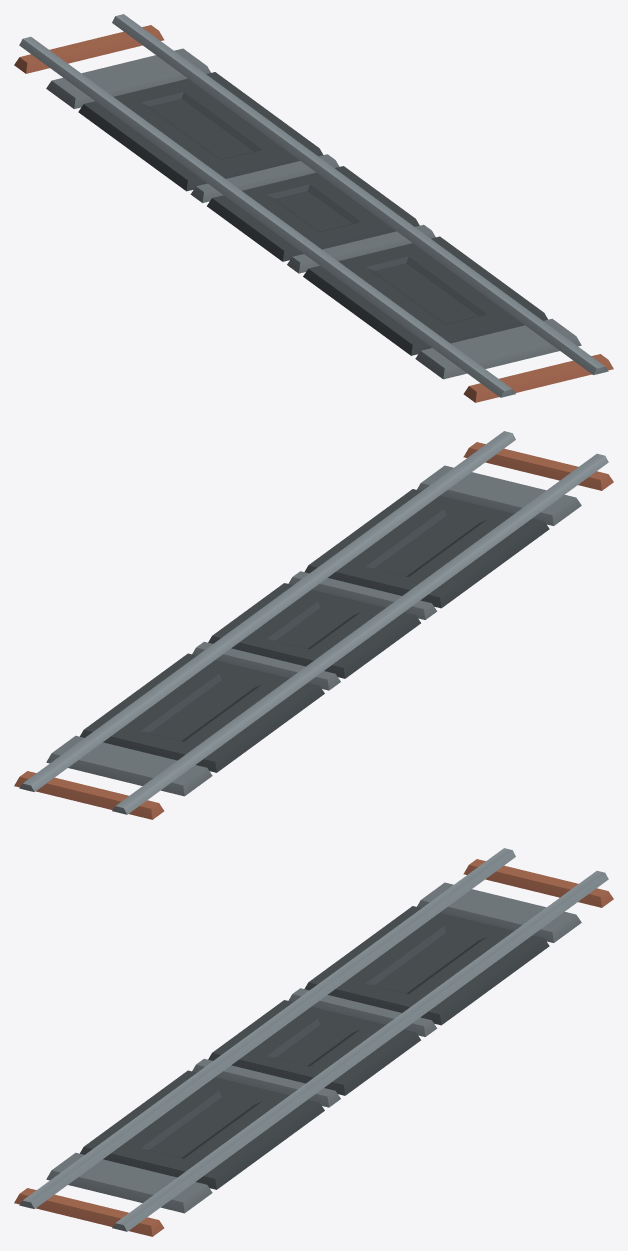
Rendered from tracks_straight_station.glb.
3 renders of one model, top to bottom at view 1: azimuth 30°, elevation 25°; view 2: azimuth 150°, elevation 25°; view 3: azimuth 330°, elevation 25°, orthographic.
Parts seen in each view (by area): view 1: tracks_straight_station; view 2: tracks_straight_station; view 3: tracks_straight_station.
Boxes of the visible parts, x1,y1,x2,y2 form: tracks_straight_station: (14, 14, 613, 402); tracks_straight_station: (14, 431, 613, 819); tracks_straight_station: (14, 848, 613, 1236).
Bounding box in the file's own units: 0.4985 × 0.05 × 3.
Materials: 1 (1 with a texture image).
